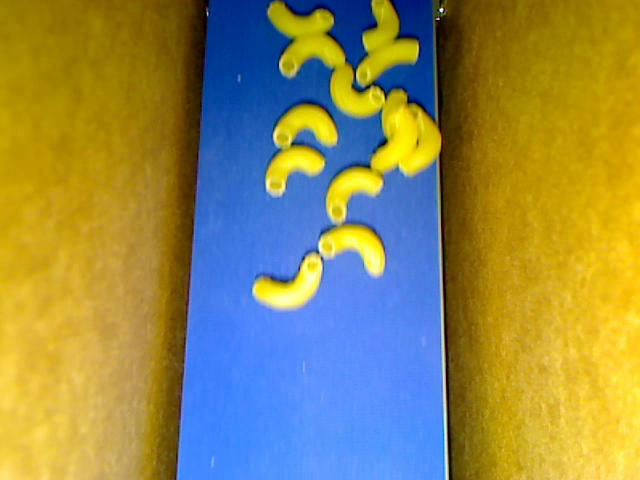elbow: (252, 251, 322, 312), (317, 223, 386, 278), (325, 166, 383, 227), (263, 145, 326, 199), (397, 103, 441, 178), (330, 62, 386, 120), (355, 39, 419, 88), (369, 108, 416, 174), (272, 103, 339, 148), (278, 32, 346, 76), (268, 1, 335, 38), (362, 1, 401, 54), (381, 89, 410, 141)
